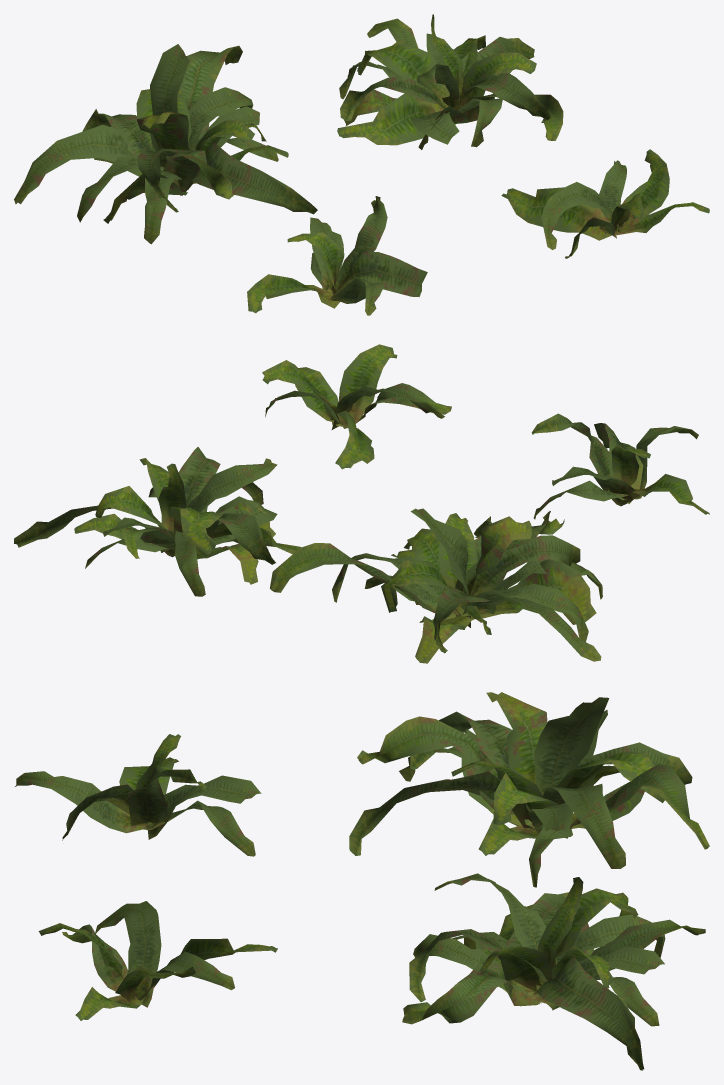
Rendered from fern_02.glb.
3 renders of one model, top to bottom at view 1: azimuth 30°, elevation 25°; view 2: azimuth 150°, elevation 25°; view 3: azimuth 270°, elevation 25°, orthographic. The views are drawn at different scales.
Visible parts, largest first — view 1: fern_02_b, fern_02_c, fern_02_a, fern_02_d; view 2: fern_02_b, fern_02_c, fern_02_d, fern_02_a; view 3: fern_02_b, fern_02_c, fern_02_a, fern_02_d.
Part boxes in pixels (left/top/right/bottom): fern_02_b: left=14, top=44, right=317, bottom=244; fern_02_c: left=337, top=14, right=563, bottom=149; fern_02_a: left=247, top=196, right=427, bottom=315; fern_02_d: left=501, top=149, right=709, bottom=258; fern_02_b: left=270, top=508, right=602, bottom=663; fern_02_c: left=14, top=447, right=301, bottom=596; fern_02_d: left=262, top=344, right=451, bottom=469; fern_02_a: left=531, top=413, right=709, bottom=519; fern_02_b: left=349, top=692, right=709, bottom=887; fern_02_c: left=402, top=873, right=705, bottom=1070; fern_02_a: left=15, top=734, right=261, bottom=856; fern_02_d: left=38, top=901, right=277, bottom=1020.
Size of the model in its own units: 1.97 by 0.4277 by 1.72.
Materials: 1 (1 with a texture image).
